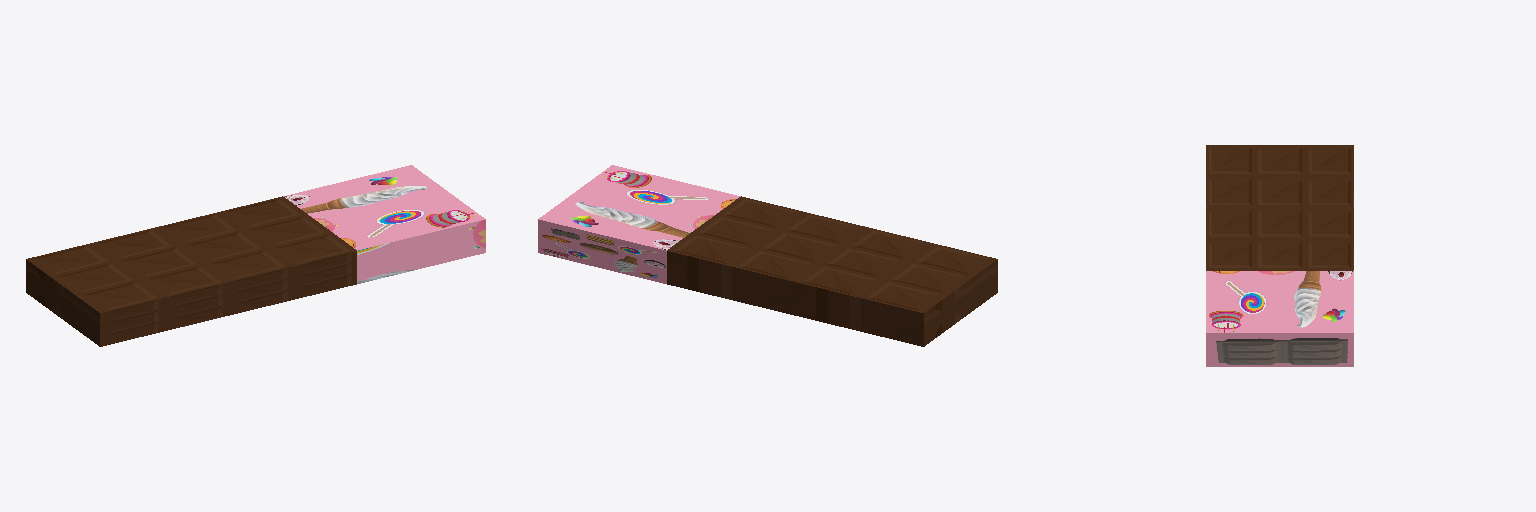
3 renders of one model, left to right at view 1: azimuth 30°, elevation 25°; view 2: azimuth 150°, elevation 25°; view 3: azimuth 270°, elevation 25°, orthographic.
Parts seen in each view (by area): view 1: Cube.001, Cube.002, Cube; view 2: Cube.001, Cube.002, Cube; view 3: Cube.002, Cube, Cube.001.
Part boxes in pixels (left/top/right/bottom): Cube.001: left=26, top=228, right=228, bottom=346; Cube.002: left=283, top=165, right=485, bottom=283; Cube: left=155, top=196, right=356, bottom=315; Cube.001: left=795, top=228, right=997, bottom=346; Cube.002: left=538, top=165, right=740, bottom=283; Cube: left=667, top=196, right=868, bottom=315; Cube.002: left=1206, top=271, right=1353, bottom=366; Cube: left=1206, top=208, right=1353, bottom=270; Cube.001: left=1206, top=145, right=1353, bottom=207.
Bounding box in the file's own units: 12 × 1 × 4.
Materials: 3 (2 with a texture image).